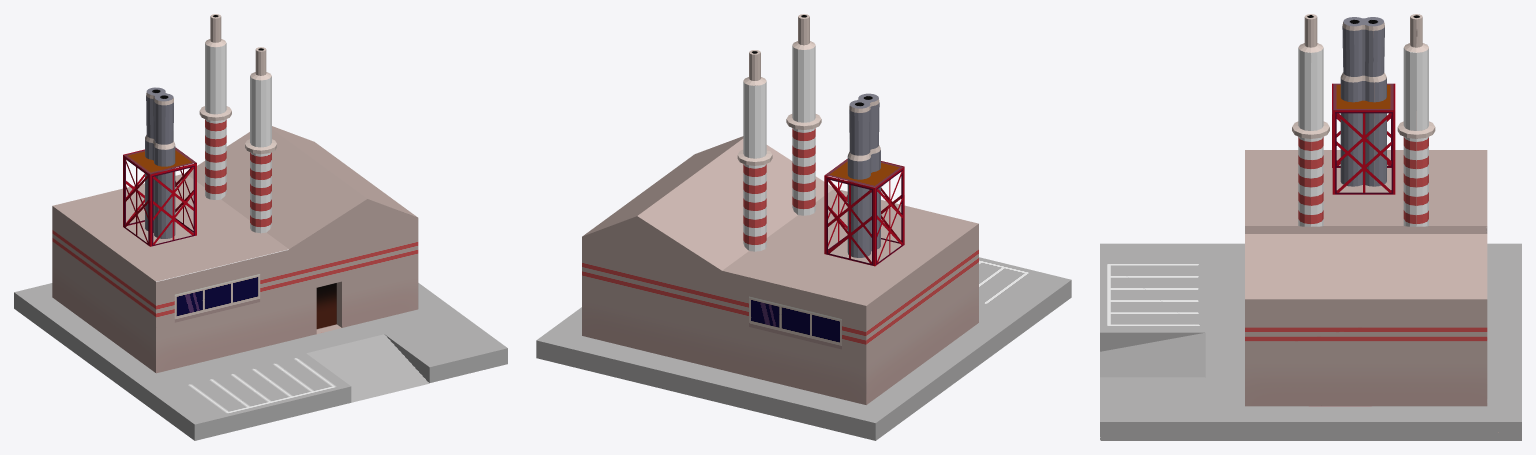
The model's file is FactoryModel01 1.fbx.
3 views of the same model, side by side, from view 1: azimuth 30°, elevation 25°; view 2: azimuth 150°, elevation 25°; view 3: azimuth 270°, elevation 25° (orthographic). The views are drawn at different scales.
Visible parts, largest first — view 1: Building; view 2: Building; view 3: Building.
Boxes of the visible parts, x1,y1,x2,y2 form: Building: [14, 14, 507, 440]; Building: [536, 14, 1071, 440]; Building: [1100, 14, 1521, 440].
Size of the model in its own units: 200 by 175 by 200.
